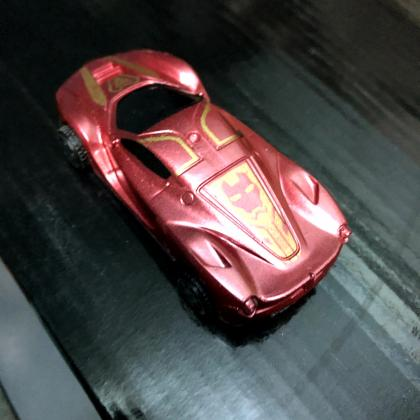Car: (55, 50, 351, 329)
